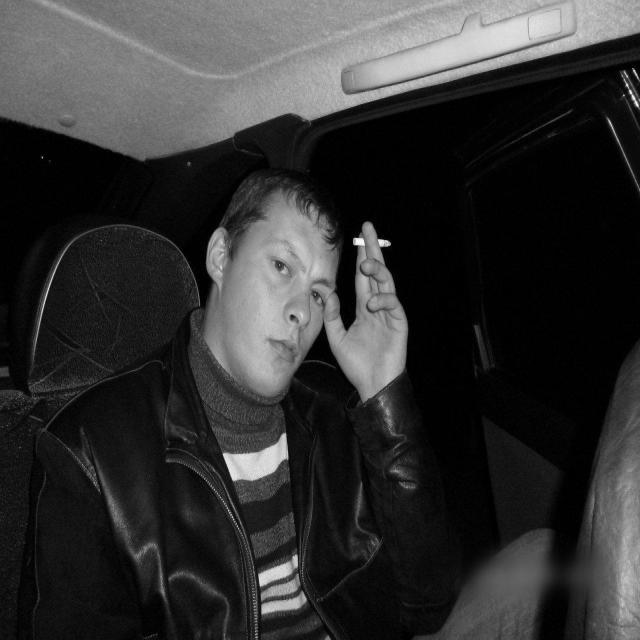Cigarette: (352, 232, 404, 261)
